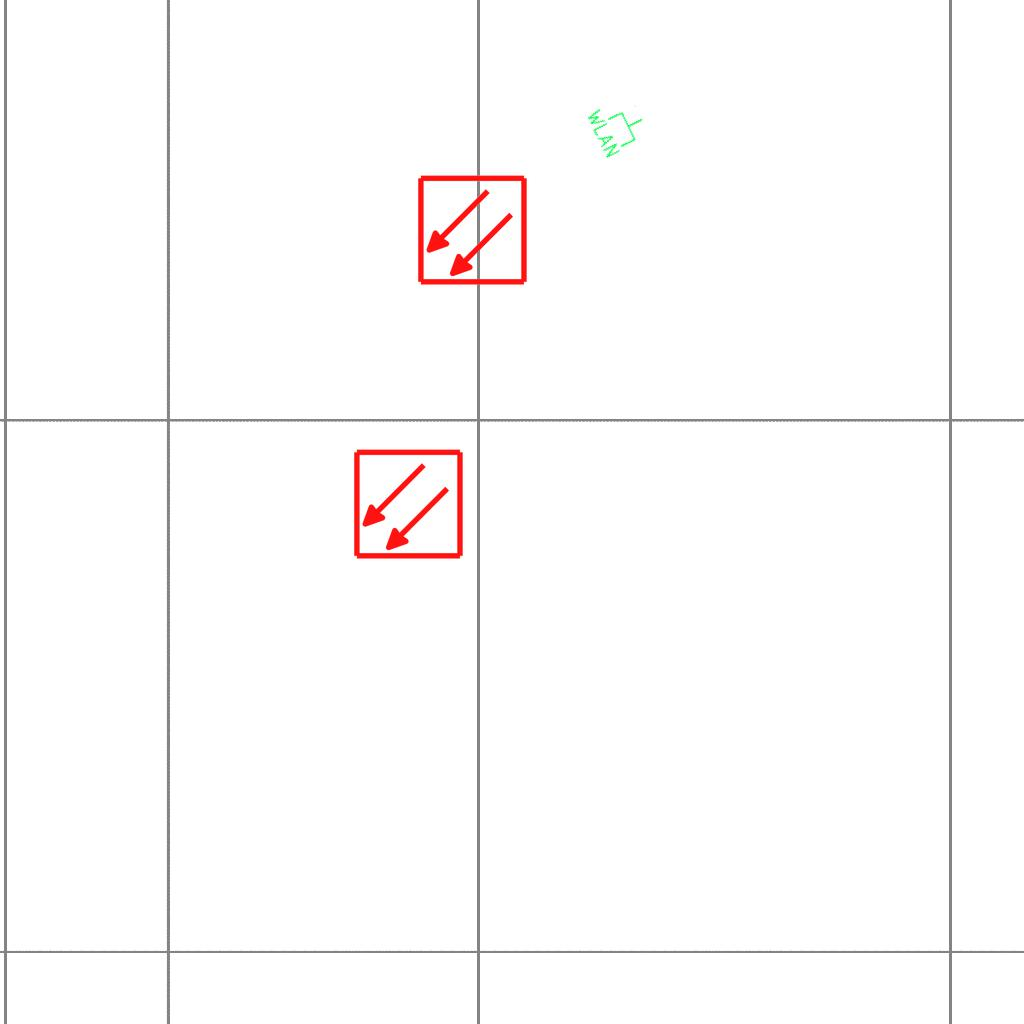RMO_Rauchmelder_optischer: (352, 448, 465, 561), (416, 174, 529, 287)
WLAN: (583, 91, 653, 161)
